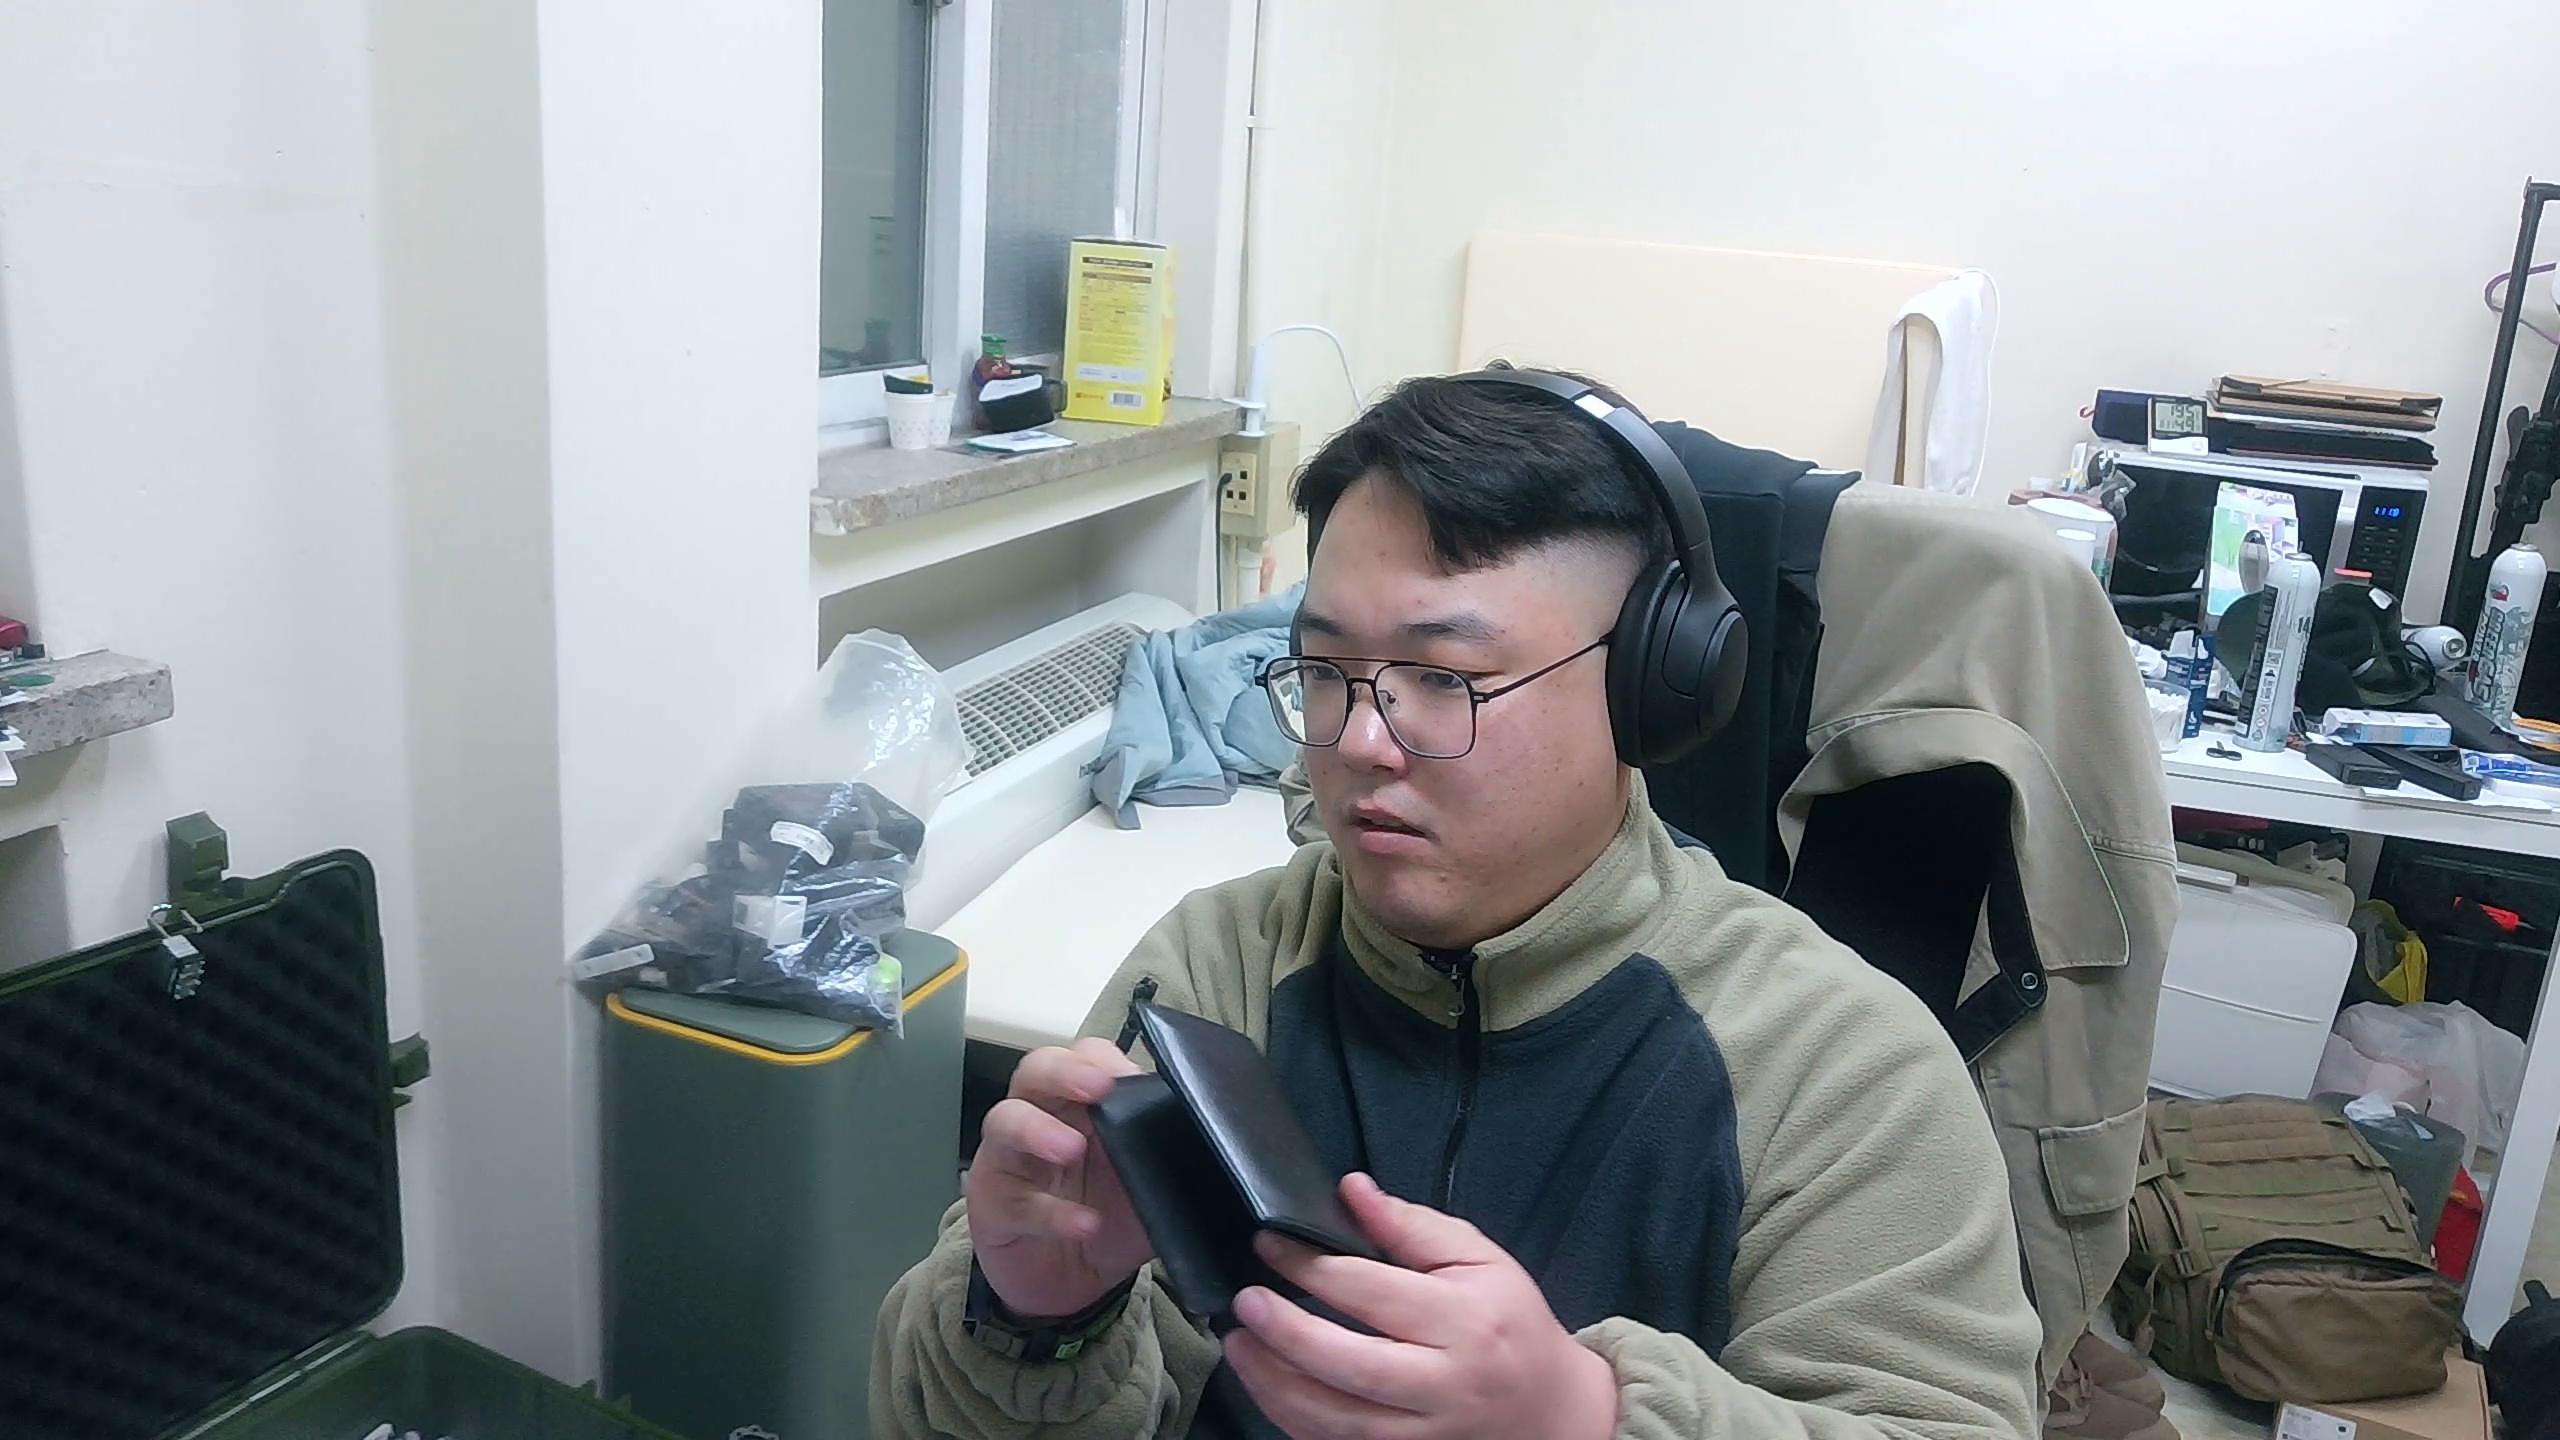Wallet: (1087, 992, 1400, 1342)
